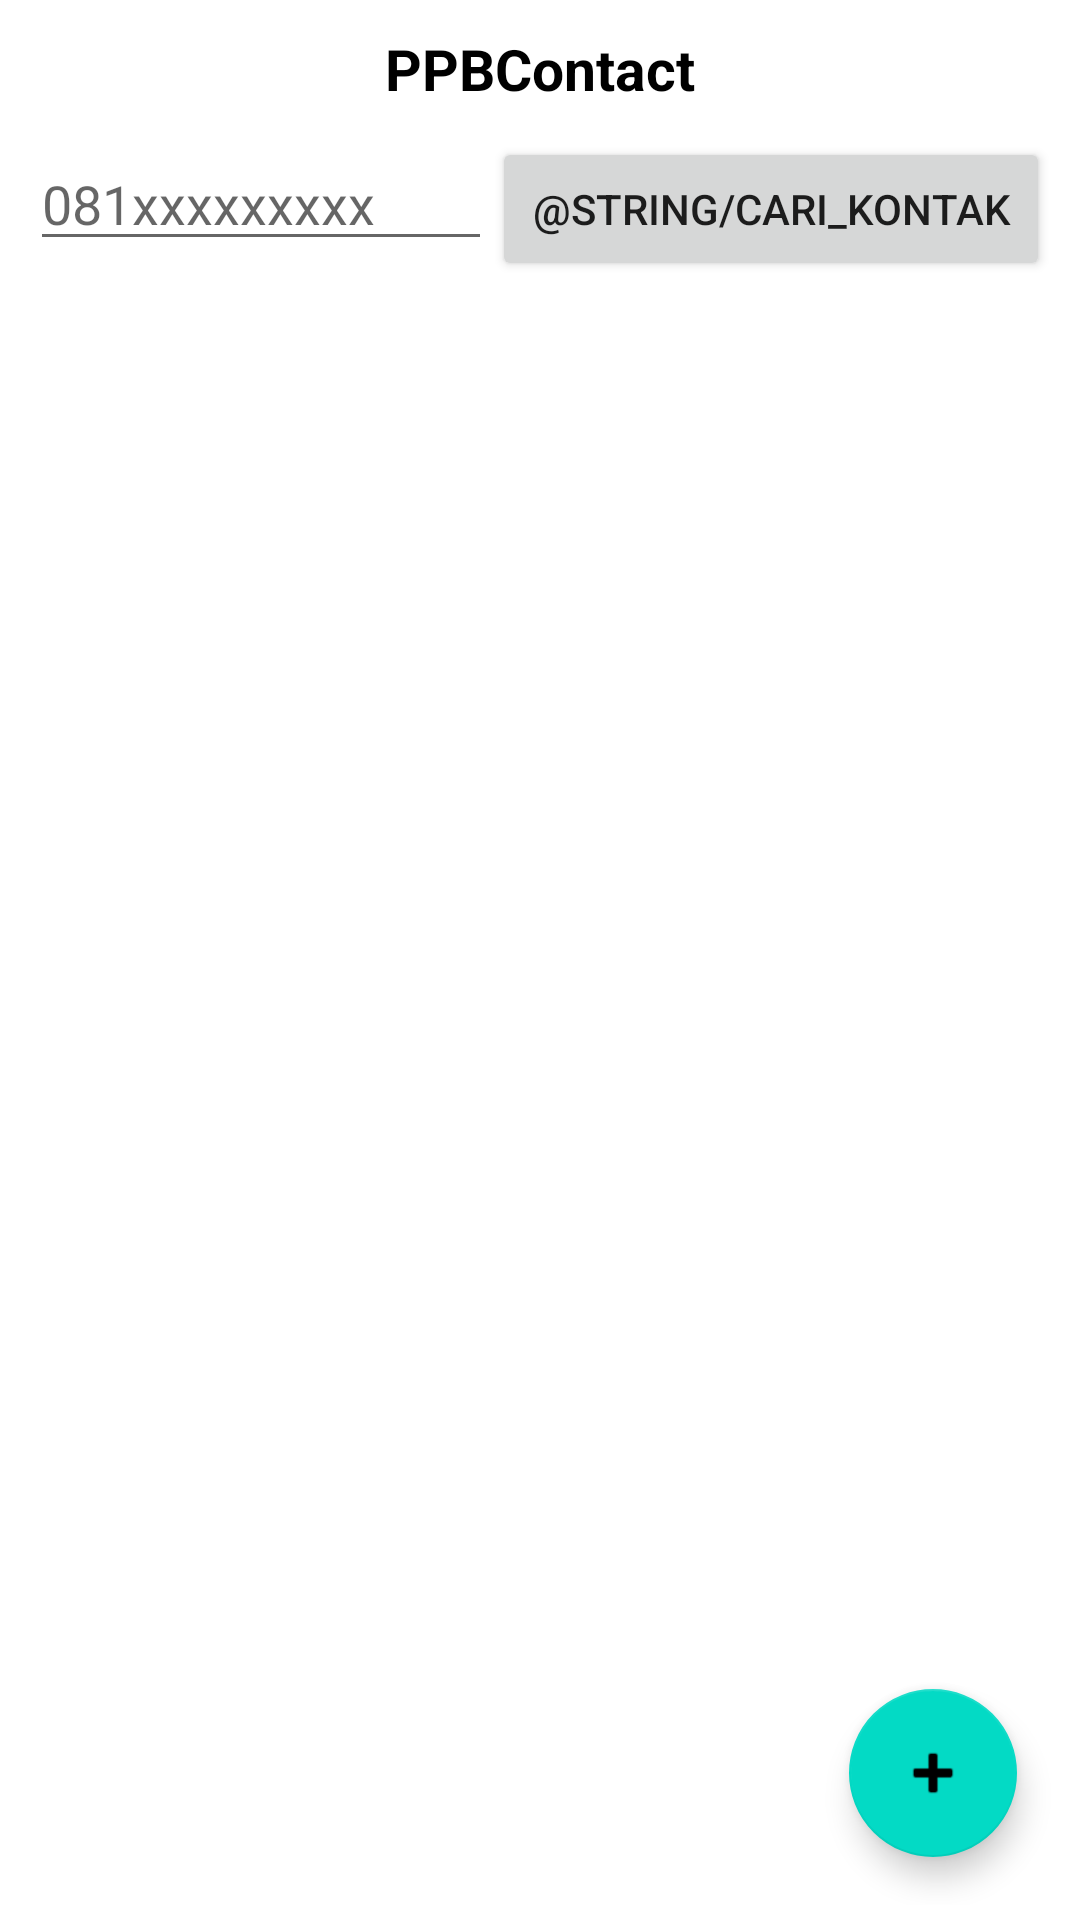

Named icons in this screenshot (1080x1920) and their bounding boxes, (x1, y1, x2, y2):
add: (849, 1689, 1017, 1857)
